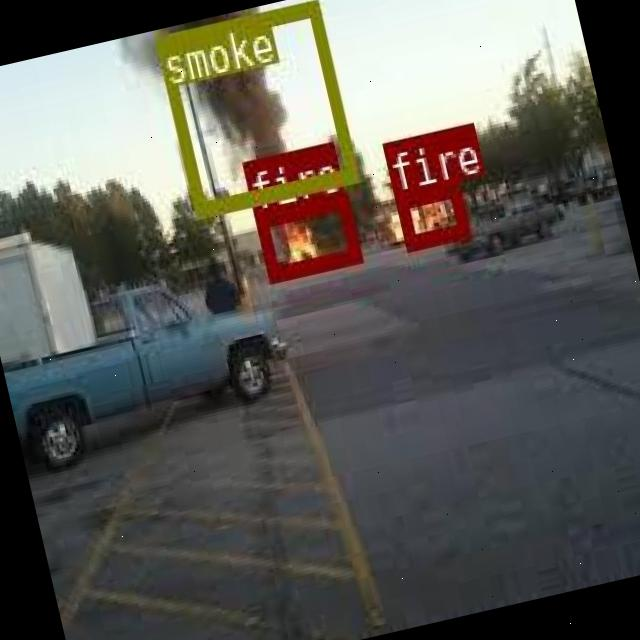fire: (252, 190, 358, 280), (392, 179, 468, 247)
smoke: (152, 0, 357, 216)
